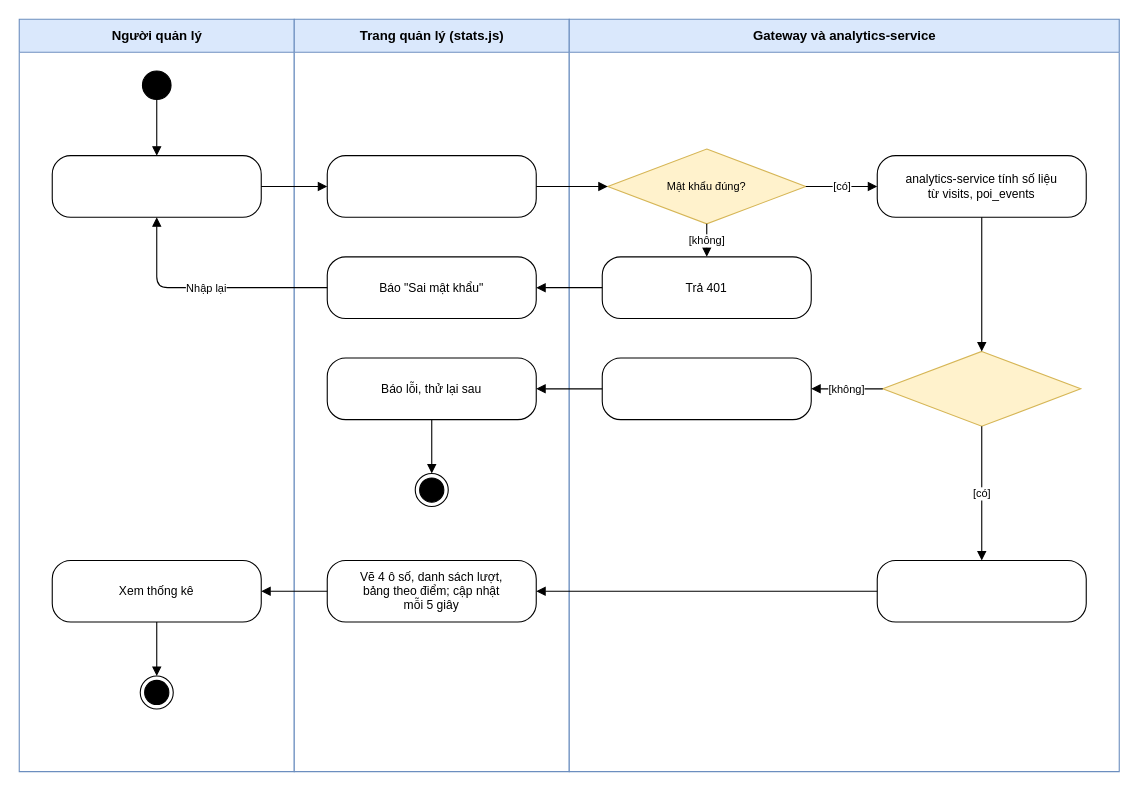
Image size: 1139x791. Some labels were removed from this diagram. The centre of each missing label's shape, as x and y in pixels:
Gửi GET /api/admin/stats kèm mật khẩu: (431,186)
Mở /quan-ly.html, nhập mật khẩu, tab "Thống kê": (156,186)
Trả 200 + số liệu: (981,590)
Trả 502: (706,388)
Trả lời kịp?: (981,388)
